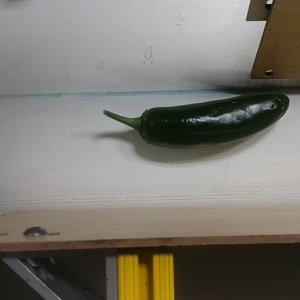Cut Point: (132, 107, 159, 144)
